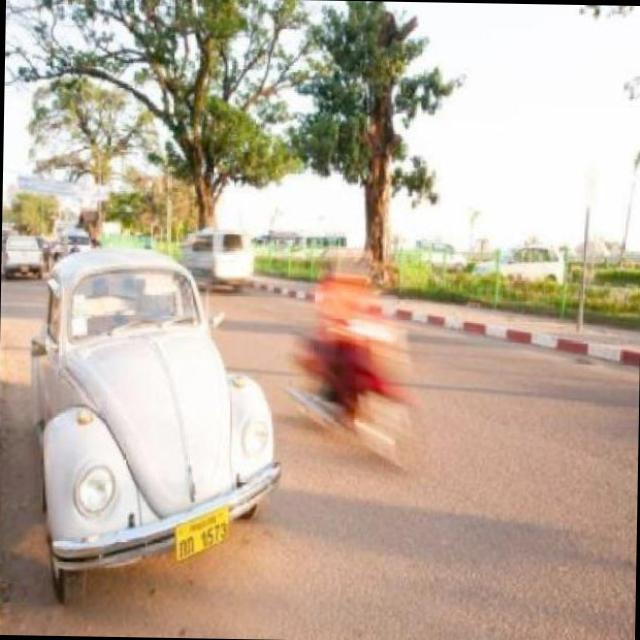car: (25, 242, 276, 598), (2, 232, 38, 277)
